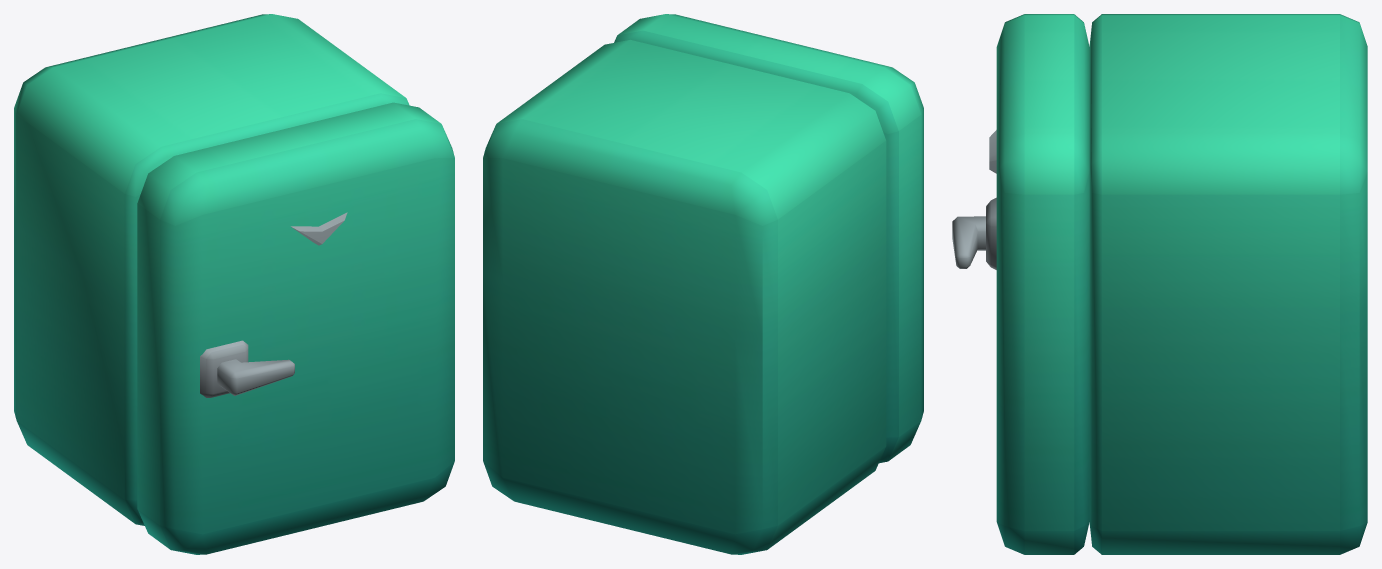
Rendered from fridge_B.gltf.
The picture shows the model from 3 angles, left to right: view 1: azimuth 30°, elevation 25°; view 2: azimuth 150°, elevation 25°; view 3: azimuth 270°, elevation 25°; orthographic projection. The views are drawn at different scales.
Visible parts, largest first — view 1: fridge_B_door, fridge_B; view 2: fridge_B, fridge_B_door; view 3: fridge_B, fridge_B_door.
Boxes of the visible parts, <box> form: fridge_B_door: <box>137,102,454,554</box>; fridge_B: <box>14,14,409,525</box>; fridge_B: <box>483,39,886,554</box>; fridge_B_door: <box>614,14,923,463</box>; fridge_B: <box>1089,14,1367,554</box>; fridge_B_door: <box>952,14,1089,554</box>.
Bounding box in the file's own units: 2 × 2.5 × 2.24.
Materials: 1 (1 with a texture image).
